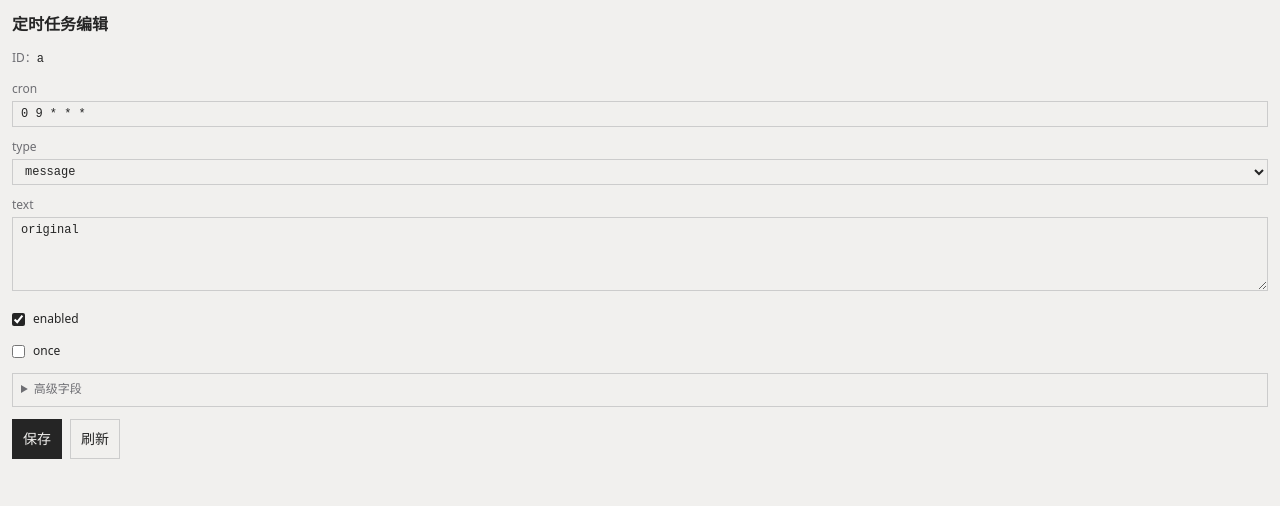
Test: 定时任务右栏的保存 › 这一条在打开之后被别处改过就不写，说清要先刷新
The image size is (1280, 506).
Replace the text in the text box labelled "text" with "changed" at x=640, y=254, box [12, 217, 1268, 291]
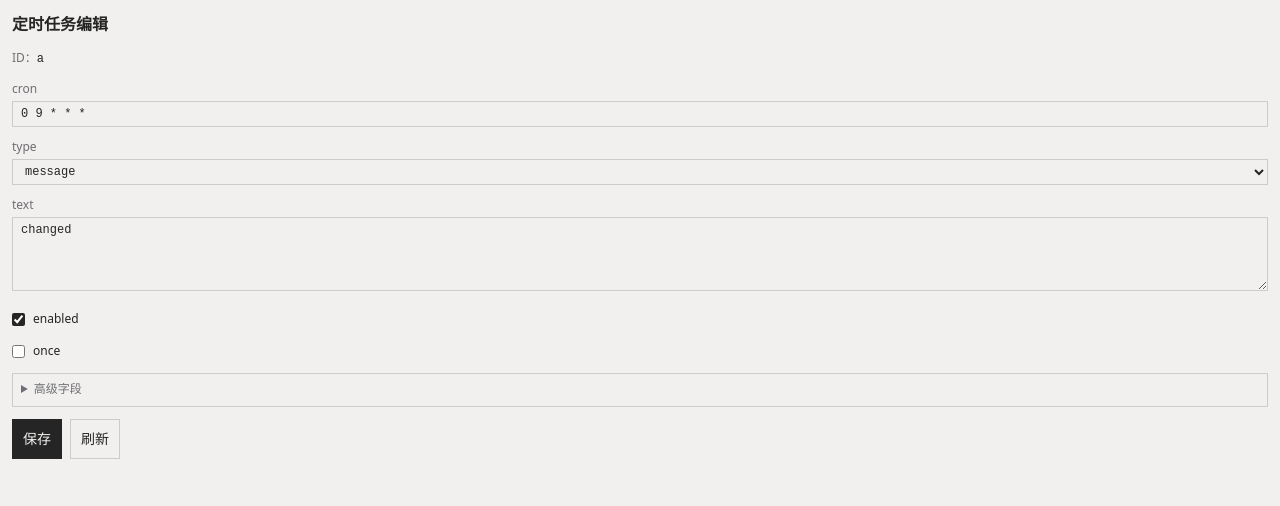
Click the button "保存" at x=37, y=439, box [12, 419, 62, 459]
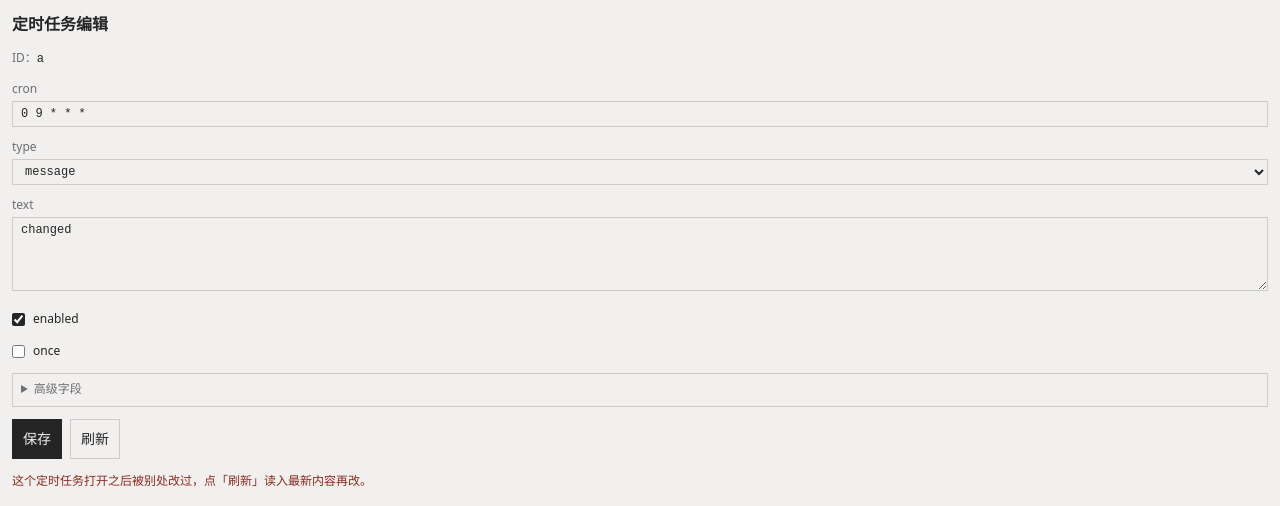
Expected: the text "这个定时任务打开之后被别处改过，点「刷新」读入最新内容再改。" is shown, [12, 472, 372, 489]
